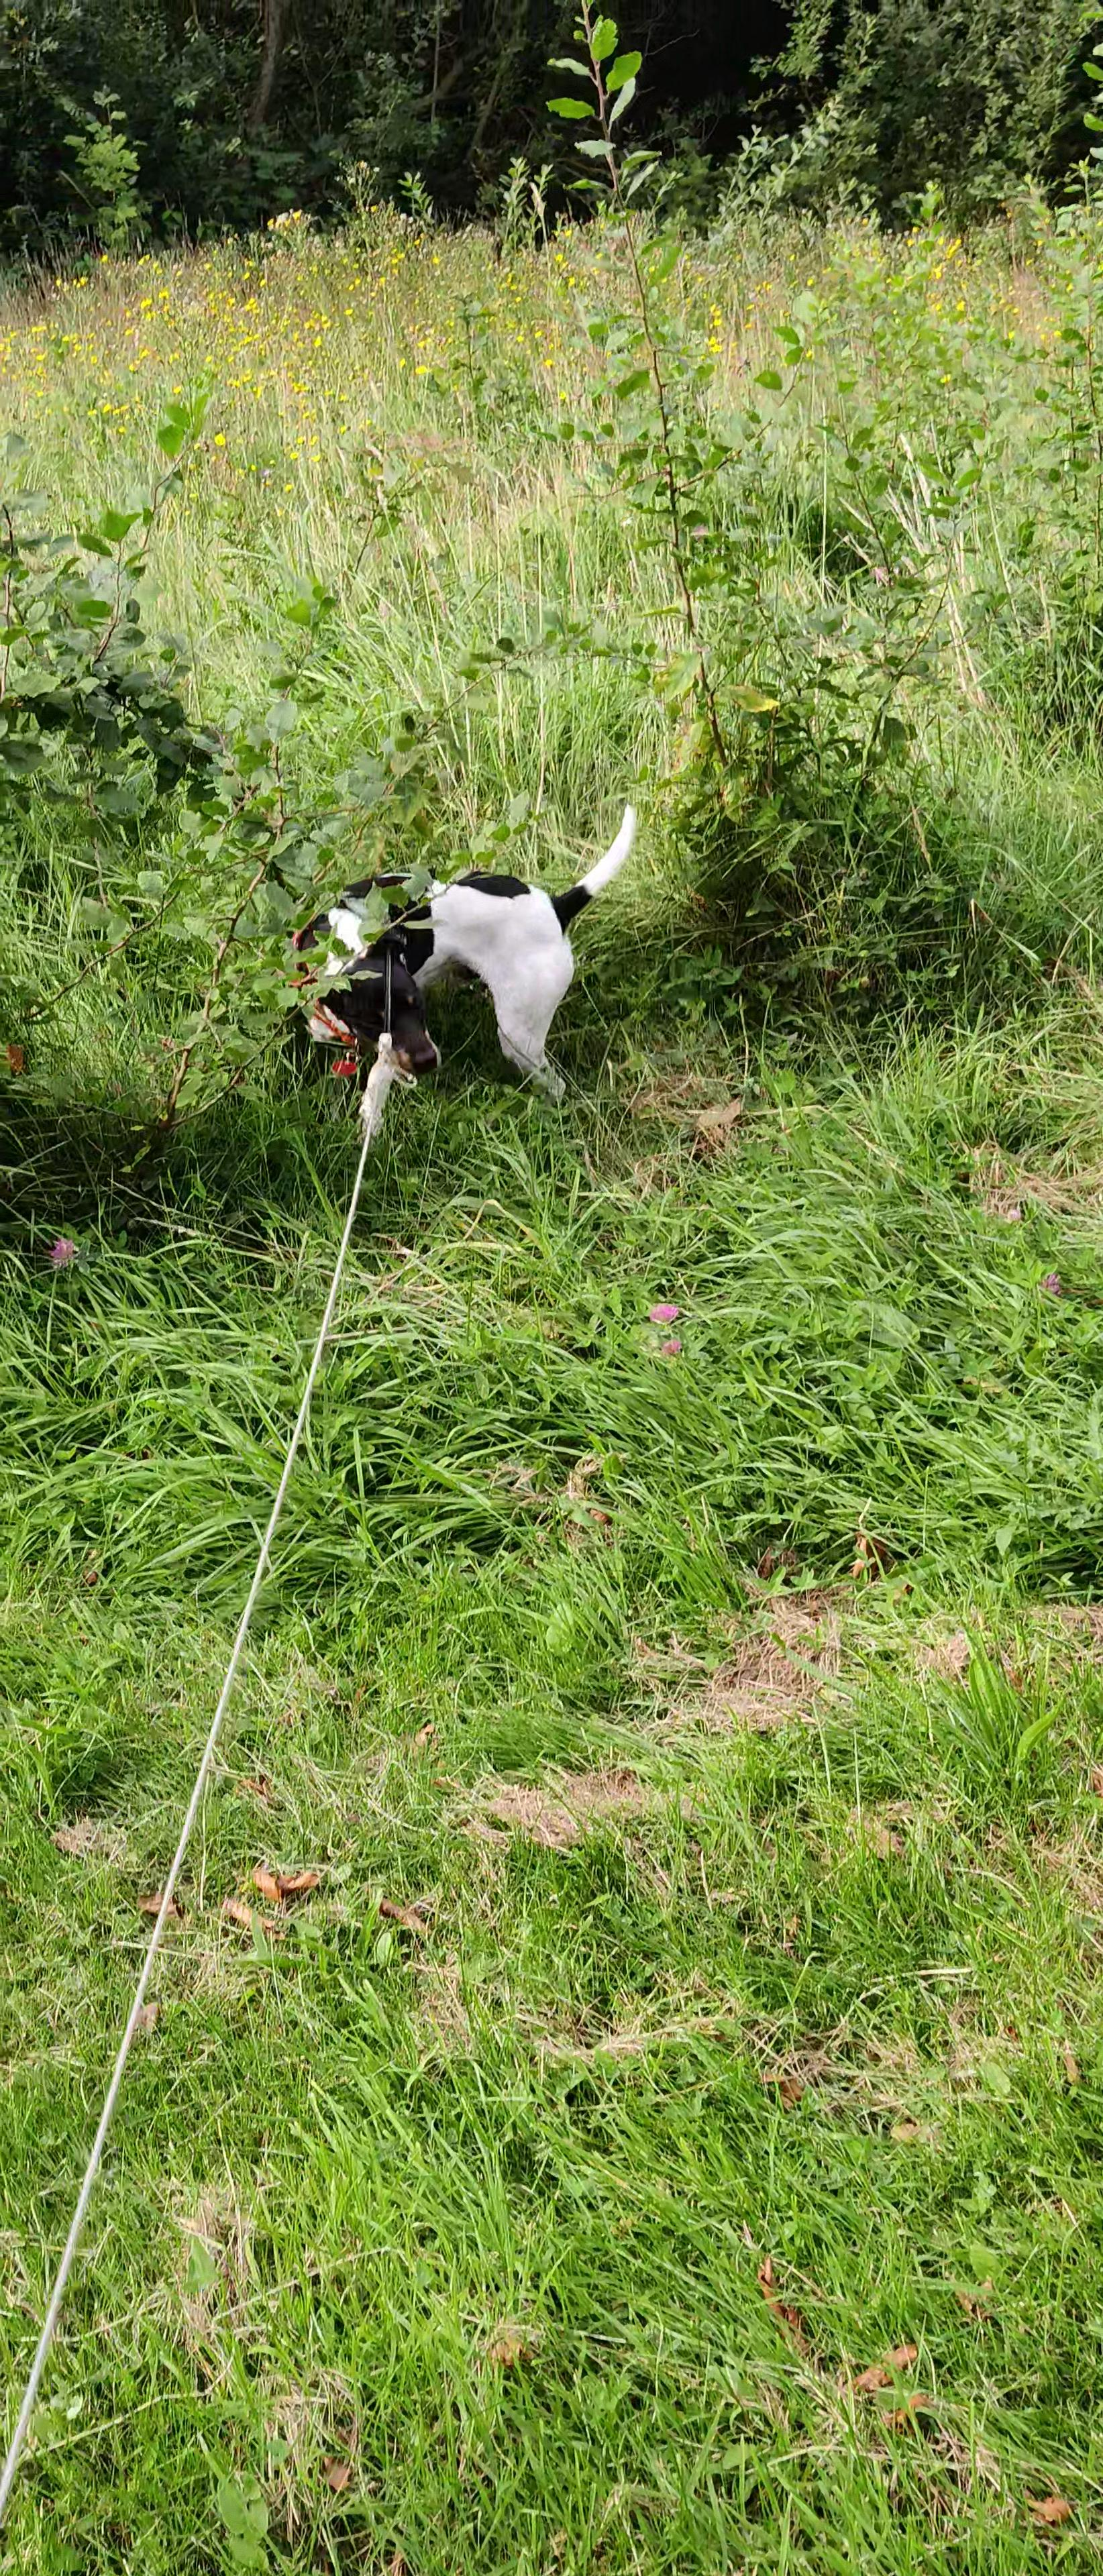Dog: (248, 790, 661, 1145)
